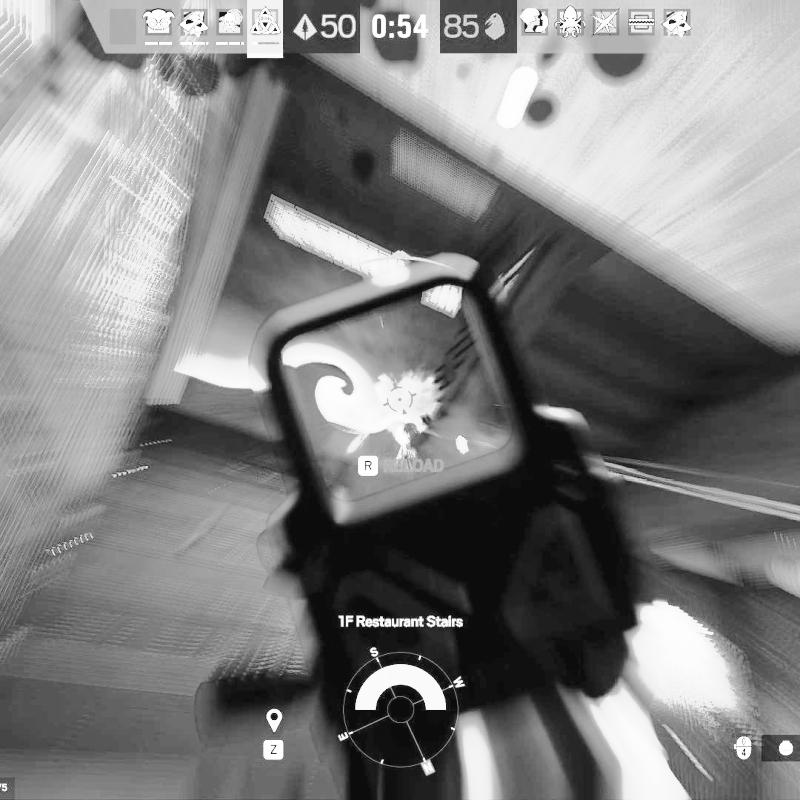Character: (393, 418, 422, 472)
Head: (394, 422, 417, 442)
